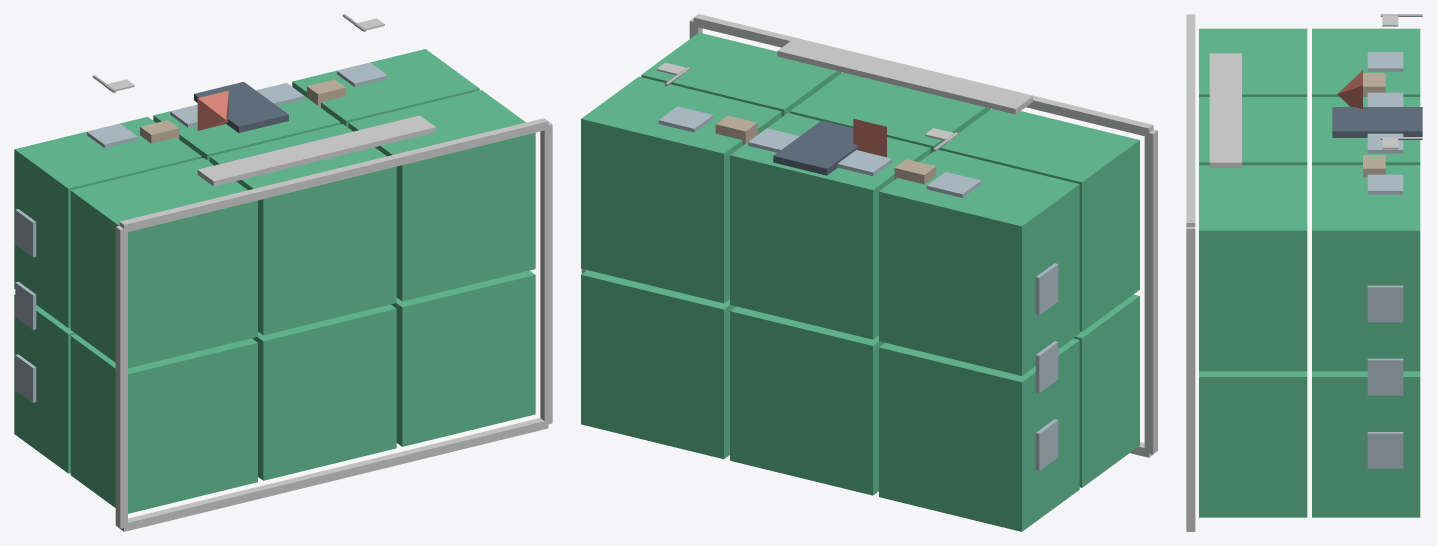
File: building-real-estate.glb
The picture shows the model from 3 angles, left to right: view 1: azimuth 30°, elevation 25°; view 2: azimuth 150°, elevation 25°; view 3: azimuth 270°, elevation 25°; orthographic projection. The views are drawn at different scales.
Parts seen in each view (by area): view 1: world; view 2: world; view 3: world.
Part boxes in pixels (x1,y1,x2,y2): world: (14, 14, 552, 531); world: (581, 14, 1157, 531); world: (1186, 14, 1422, 531).
Size of the model in its own units: 15.56 by 12.03 by 7.32.
